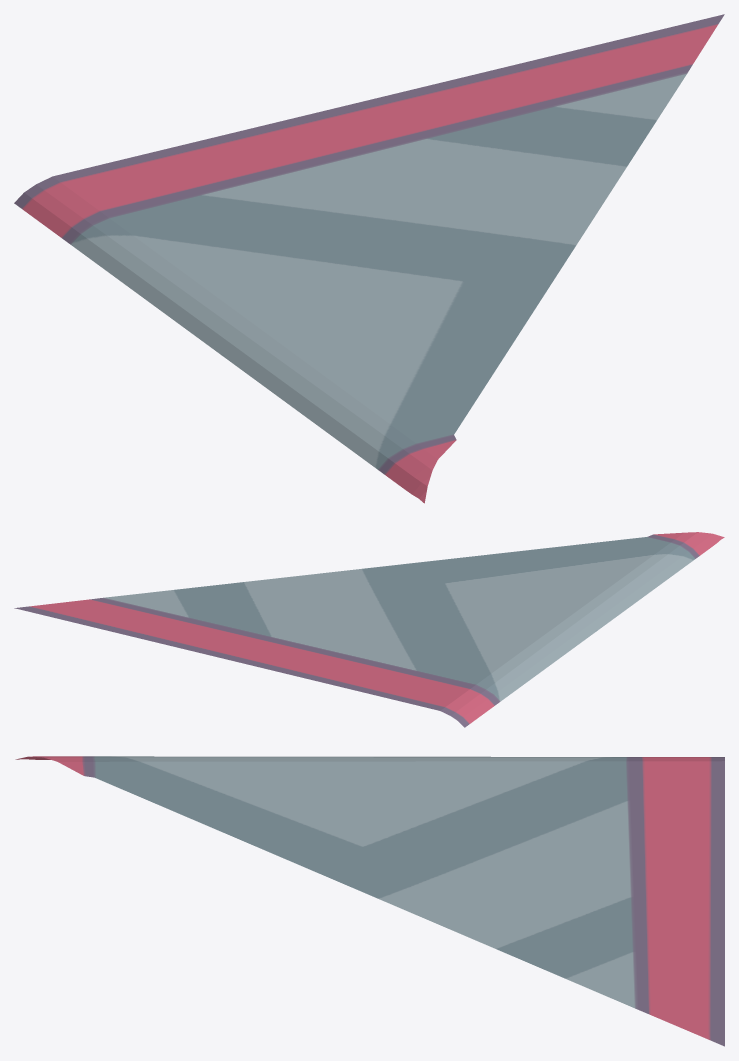
The model's file is beltAR.gltf.
3 renders of one model, top to bottom at view 1: azimuth 30°, elevation 25°; view 2: azimuth 150°, elevation 25°; view 3: azimuth 270°, elevation 25°, orthographic. The views are drawn at different scales.
Visible parts, largest first — view 1: Plane.008; view 2: Plane.008; view 3: Plane.008.
Part boxes in pixels (<box>): Plane.008: <box>14,14,724,503</box>; Plane.008: <box>14,532,724,727</box>; Plane.008: <box>15,756,724,1046</box>.
Size of the model in its own units: 1.96 by 0.046 by 1.96.
Materials: 1 (1 with a texture image).
